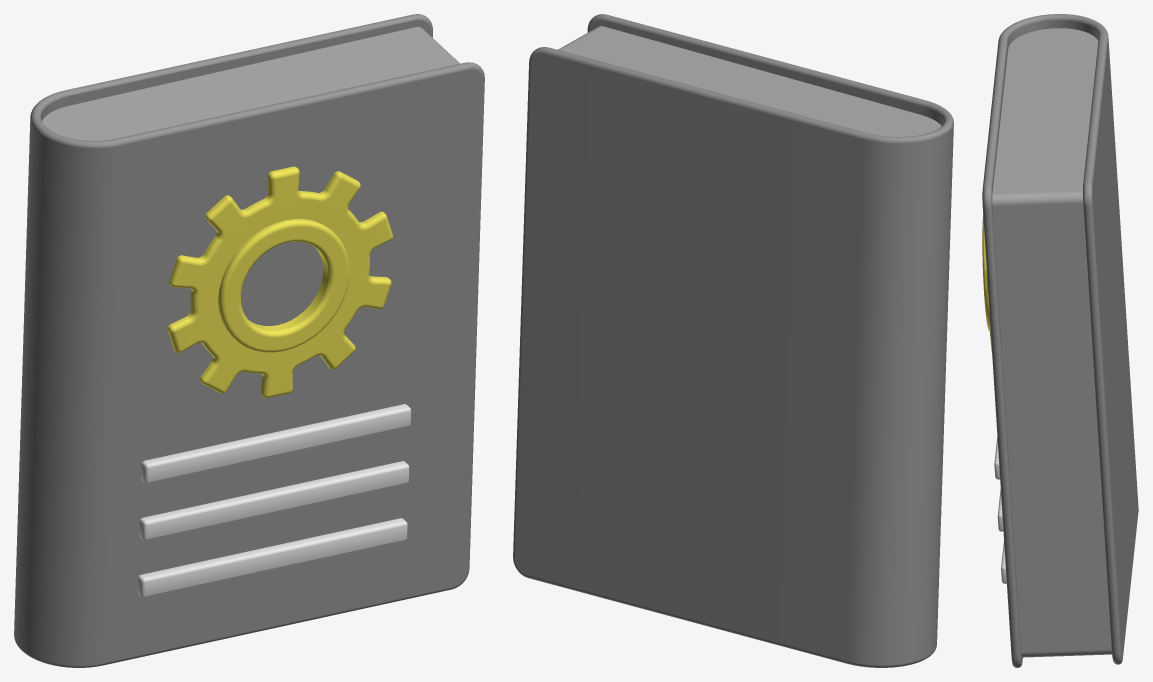
File: instructions.fbx
3 renders of one model, left to right at view 1: azimuth 30°, elevation 25°; view 2: azimuth 150°, elevation 25°; view 3: azimuth 270°, elevation 25°, orthographic. The views are drawn at different scales.
Visible parts, largest first — view 1: Book.001, Gear, Cube, Cube.002; view 2: Book.001, Cube.002; view 3: Cube.002, Book.001, Cube, Gear.
Part boxes in pixels (x1,y1,x2,y2): Book.001: [14, 14, 484, 667]; Gear: [167, 166, 392, 398]; Cube: [137, 404, 411, 597]; Cube.002: [42, 27, 459, 140]; Book.001: [513, 14, 953, 667]; Cube.002: [558, 26, 941, 136]; Cube.002: [992, 28, 1111, 657]; Book.001: [982, 14, 1138, 667]; Cube: [994, 438, 1006, 583]; Gear: [982, 215, 991, 351].
Bounding box in the file's own units: 216 × 272 × 79.16.
